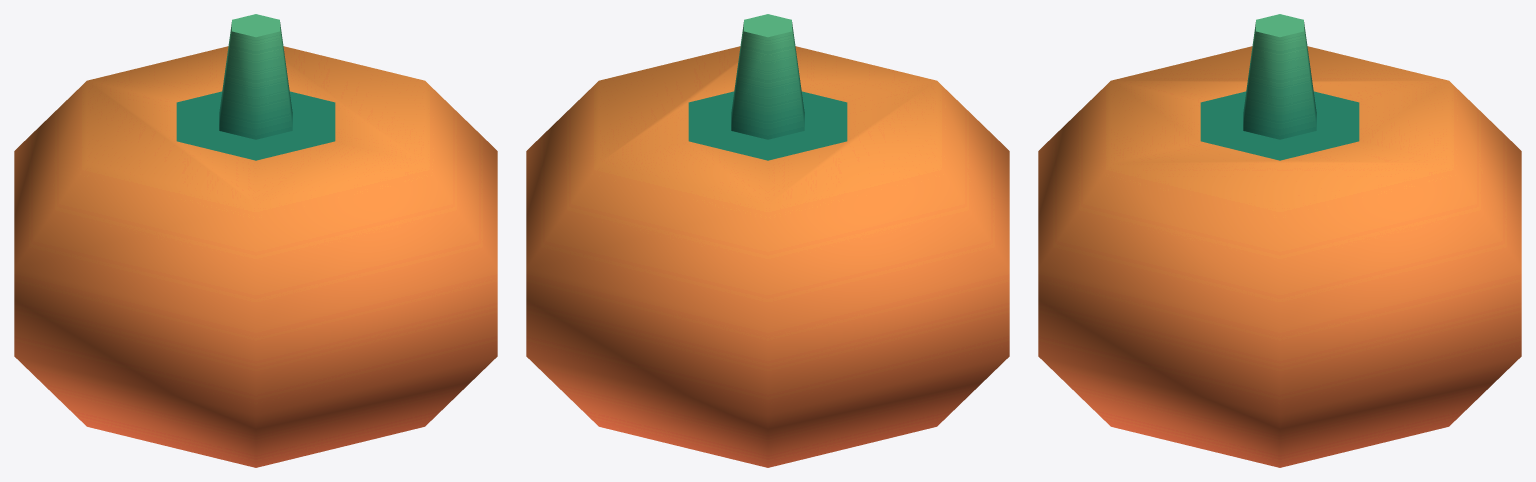
The model's file is pumpkin-basic.glb.
3 renders of one model, left to right at view 1: azimuth 30°, elevation 25°; view 2: azimuth 150°, elevation 25°; view 3: azimuth 270°, elevation 25°, orthographic.
Parts seen in each view (by area): view 1: pumpkin-basic; view 2: pumpkin-basic; view 3: pumpkin-basic.
Boxes of the visible parts, x1,y1,x2,y2 form: pumpkin-basic: [14, 14, 497, 467]; pumpkin-basic: [526, 14, 1009, 467]; pumpkin-basic: [1038, 14, 1521, 467].
Size of the model in its own units: 0.42 by 0.299 by 0.3637.
1 material, 1 textured.
